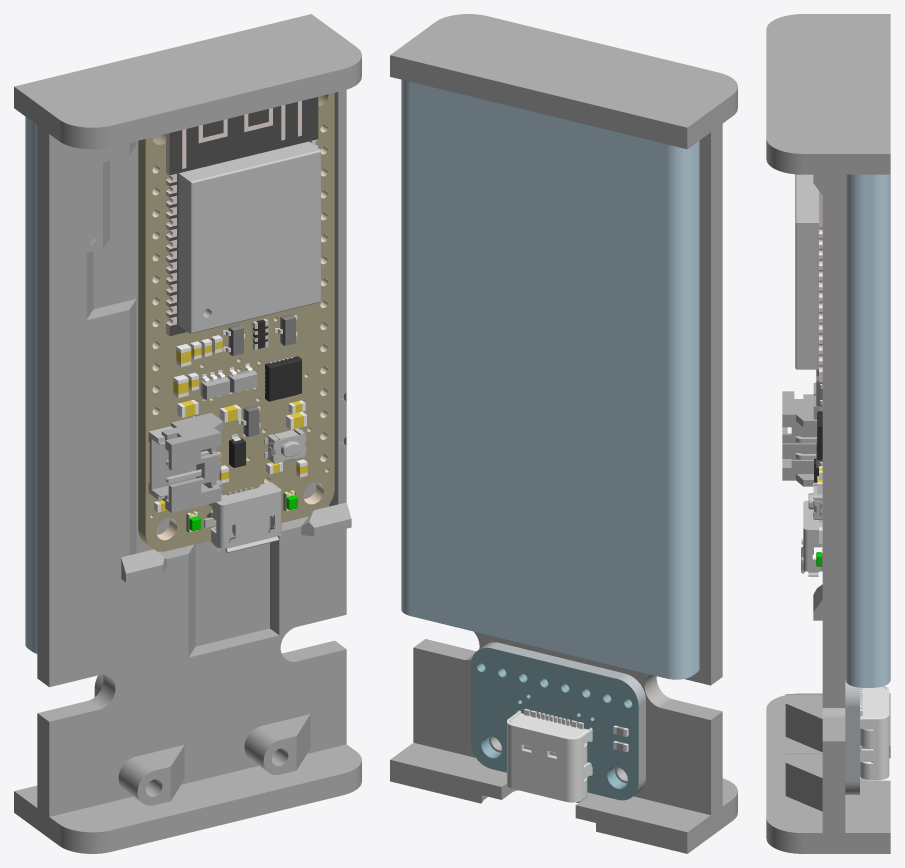
File: tattler-nocase-model.glb
The picture shows the model from 3 angles, left to right: view 1: azimuth 30°, elevation 25°; view 2: azimuth 150°, elevation 25°; view 3: azimuth 270°, elevation 25°; orthographic projection. The views are drawn at different scales.
Size of the model in its own units: 0.036 by 0.084 by 0.0135.
